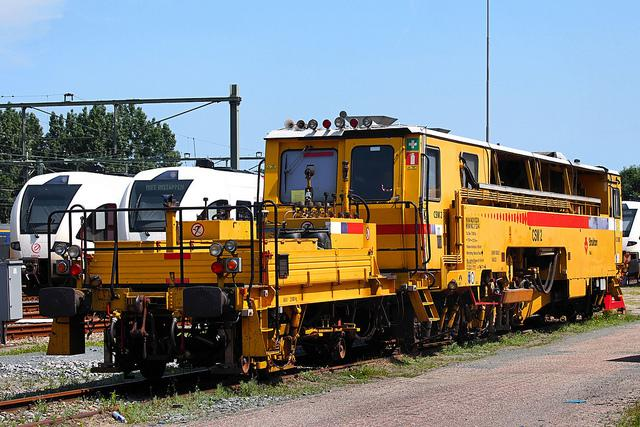Train: (36, 112, 623, 386), (118, 168, 265, 246), (9, 171, 134, 262)
